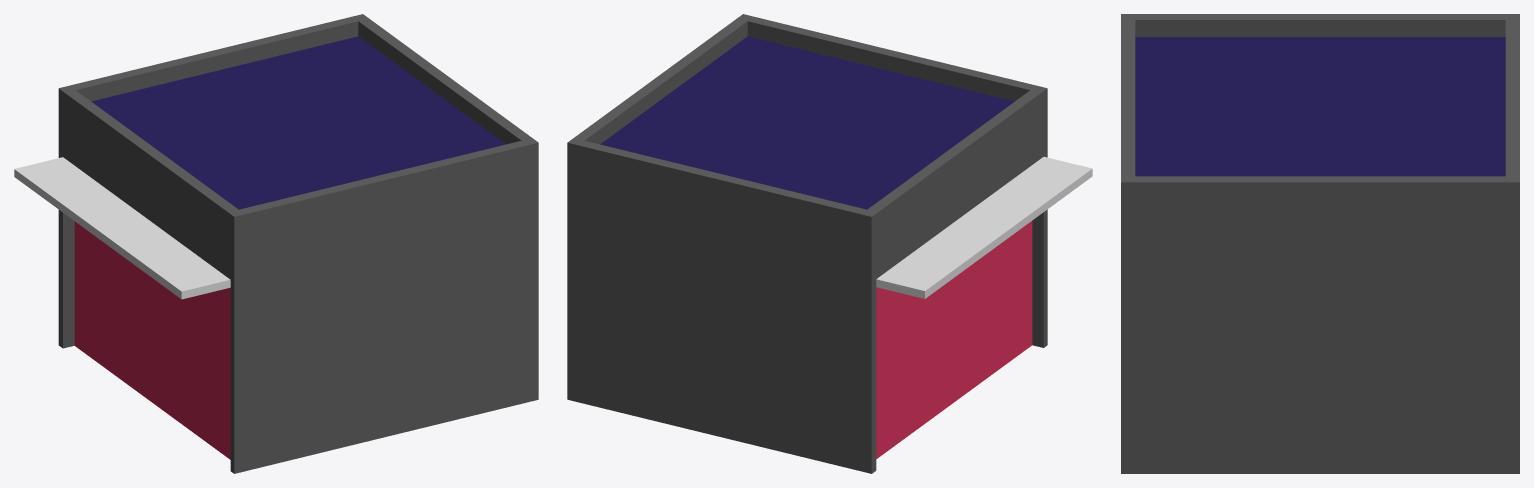
Rendered from SmallStore.fbx.
The picture shows the model from 3 angles, left to right: view 1: azimuth 30°, elevation 25°; view 2: azimuth 150°, elevation 25°; view 3: azimuth 270°, elevation 25°; orthographic projection. The views are drawn at different scales.
Visible parts, largest first — view 1: ShortStoreBuilding; view 2: ShortStoreBuilding; view 3: ShortStoreBuilding.
Part boxes in pixels (x1,y1,x2,y2): ShortStoreBuilding: [14, 14, 538, 473]; ShortStoreBuilding: [567, 14, 1092, 473]; ShortStoreBuilding: [1121, 14, 1519, 473].
Bounding box in the file's own units: 933 × 649 × 804.
